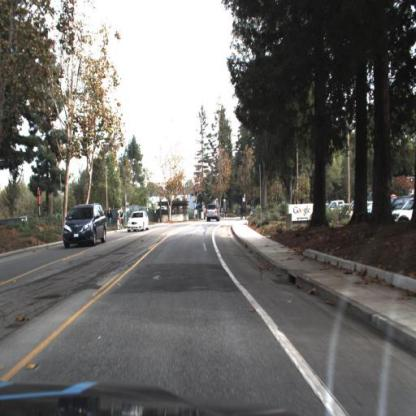biker: (117, 205, 126, 235), (235, 208, 240, 224)
car: (62, 208, 107, 249), (128, 212, 151, 233), (205, 203, 220, 225)
pedestrian: (117, 206, 127, 237), (107, 206, 115, 233)
